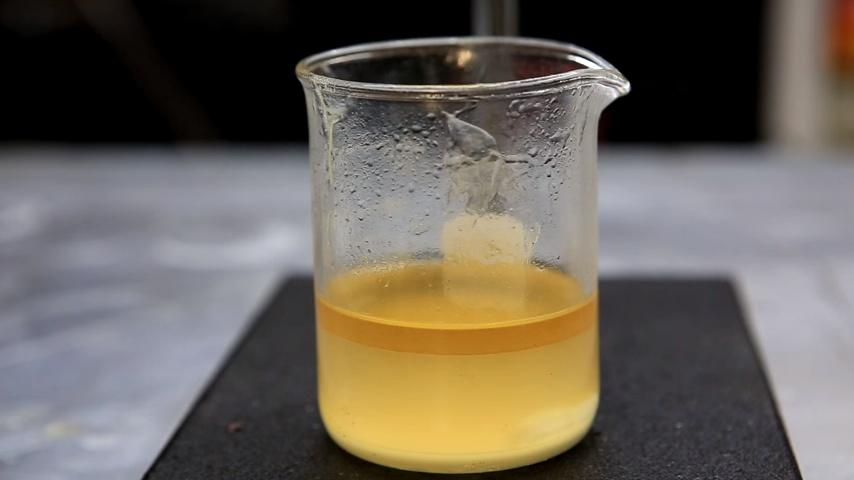Beaker: (293, 35, 635, 468)
